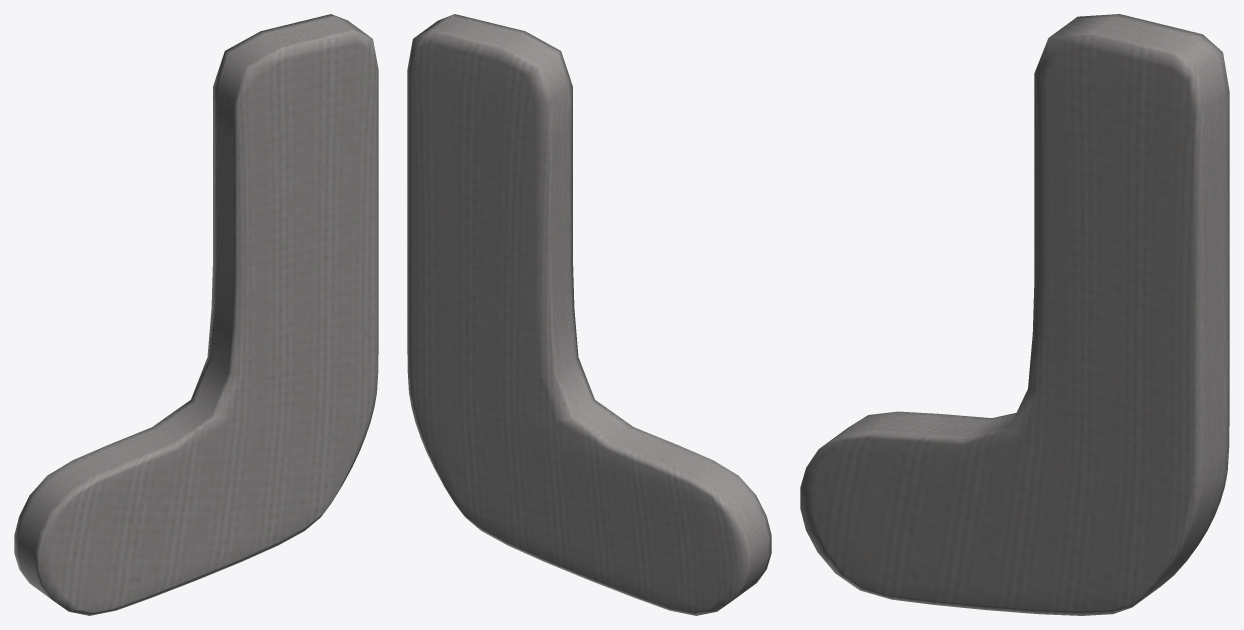
The model's file is Sock.glb.
3 views of the same model, side by side, from view 1: azimuth 30°, elevation 25°; view 2: azimuth 150°, elevation 25°; view 3: azimuth 330°, elevation 25° (orthographic). The views are drawn at different scales.
Visible parts, largest first — view 1: Sock_geo; view 2: Sock_geo; view 3: Sock_geo.
Boxes of the visible parts, x1,y1,x2,y2 form: Sock_geo: (14, 14, 378, 615); Sock_geo: (407, 14, 771, 615); Sock_geo: (800, 14, 1229, 615).
Bounding box in the file's own units: 1.78 × 2.6 × 0.2482.
1 material, 1 textured.
